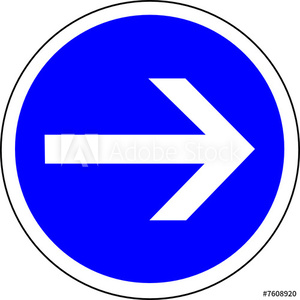trun_right: (2, 2, 300, 297)
